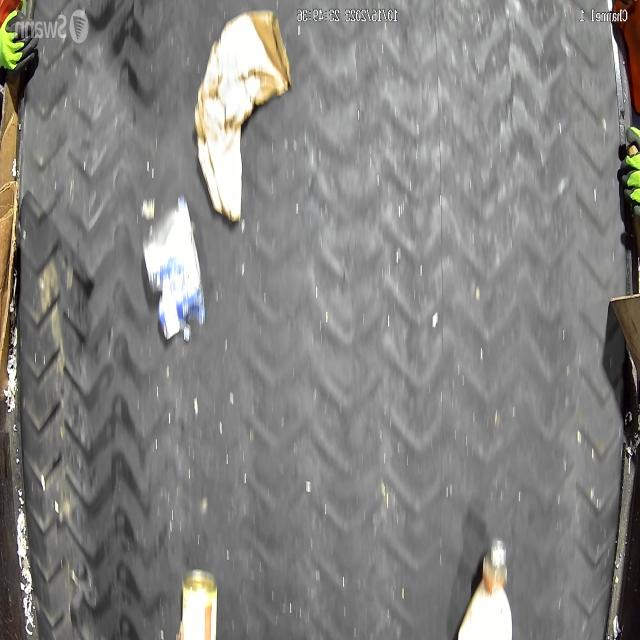can: (180, 570, 218, 640)
